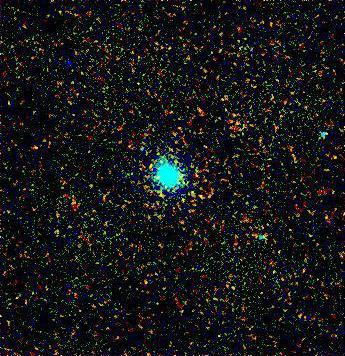star: (55, 51, 85, 81)
